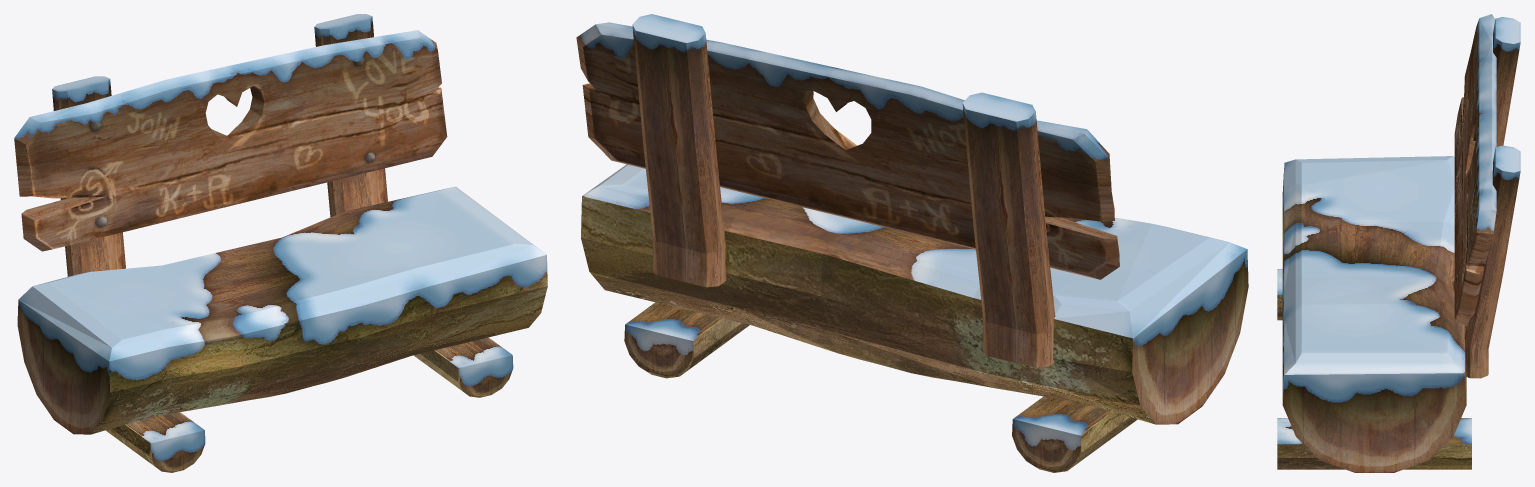
The model's file is bench01_snow.obj.
3 views of the same model, side by side, from view 1: azimuth 30°, elevation 25°; view 2: azimuth 150°, elevation 25°; view 3: azimuth 270°, elevation 25° (orthographic). The views are drawn at different scales.
Visible parts, largest first — view 1: bench01_snow; view 2: bench01_snow; view 3: bench01_snow.
Part boxes in pixels (<box>): bench01_snow: <box>14,14,547,472</box>; bench01_snow: <box>576,14,1248,472</box>; bench01_snow: <box>1277,14,1520,472</box>.
Size of the model in its own units: 250 by 164 by 121.
Materials: 1 (1 with a texture image).
